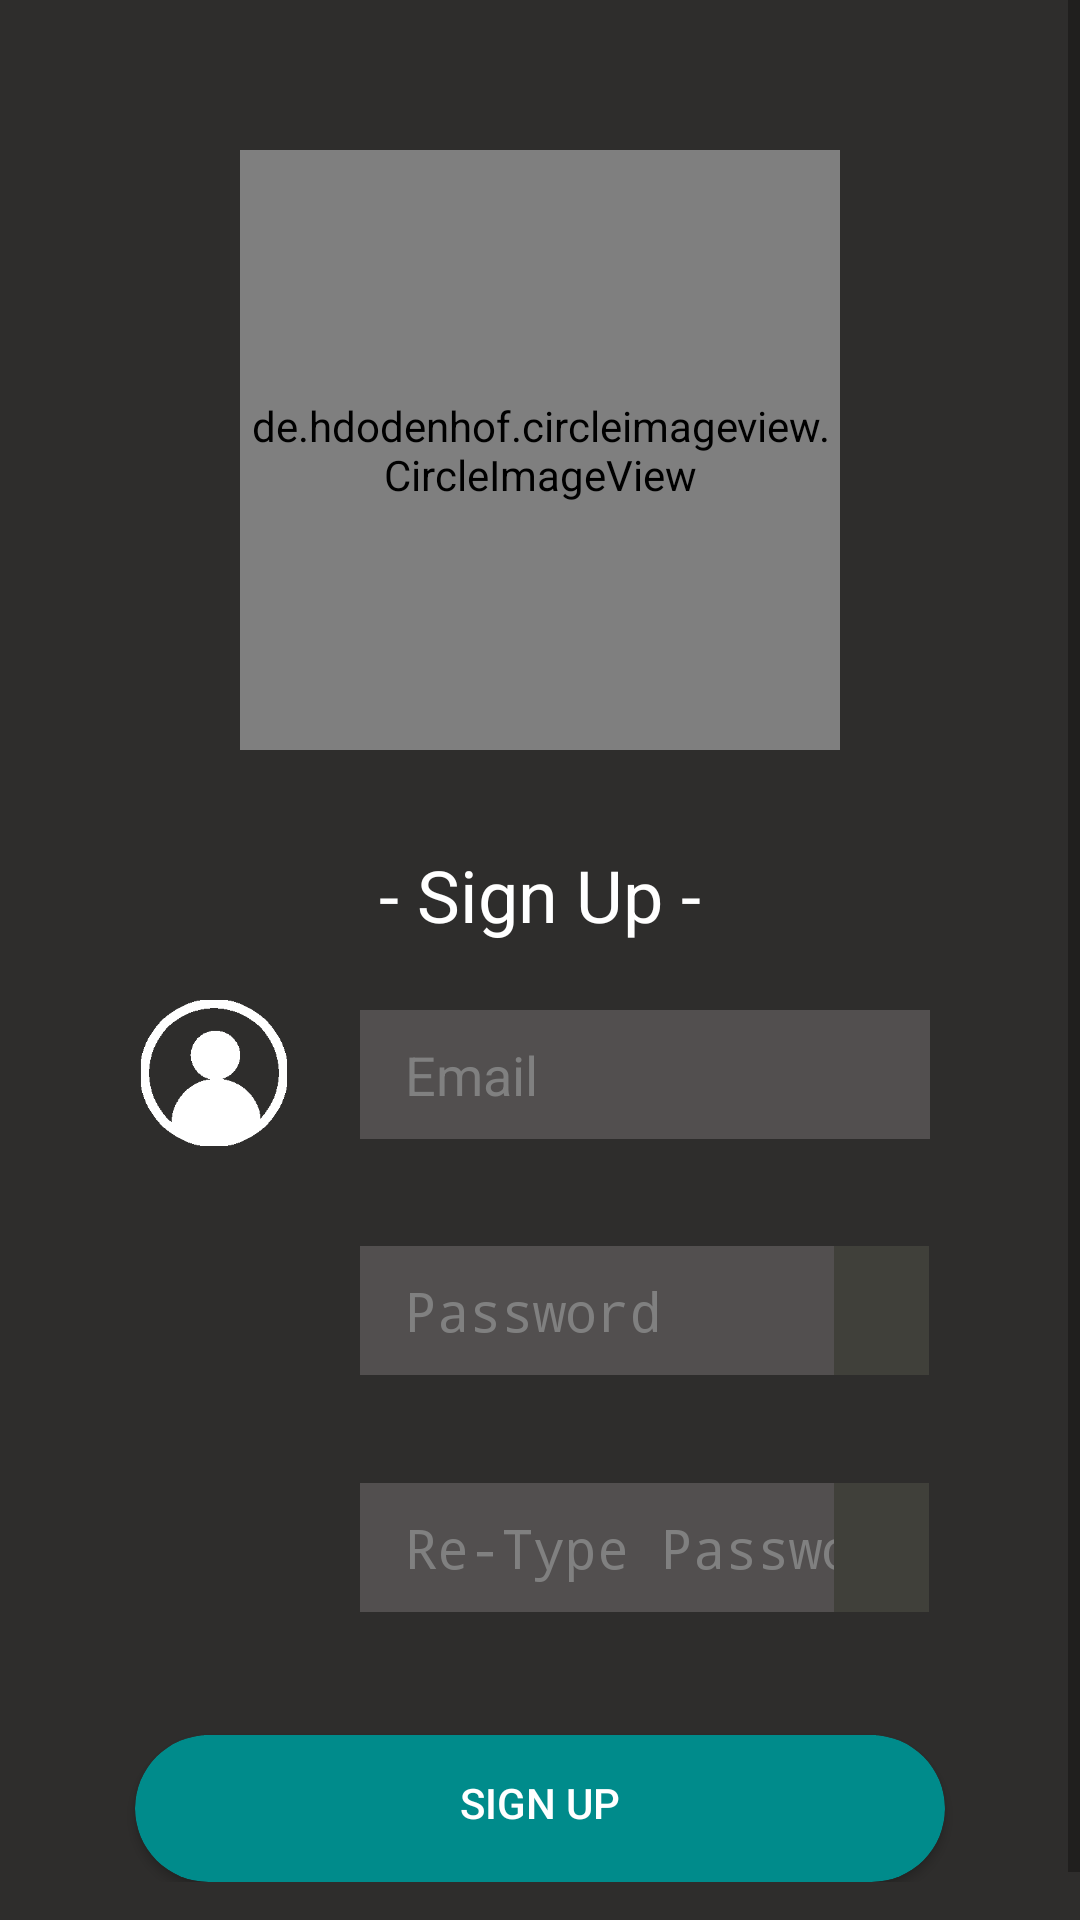

Where icons sit on this 1080×1920 app screen, as (left=x1, top=y1, right=x2, bottom=y2):
profile: (left=141, top=1000, right=287, bottom=1146)
